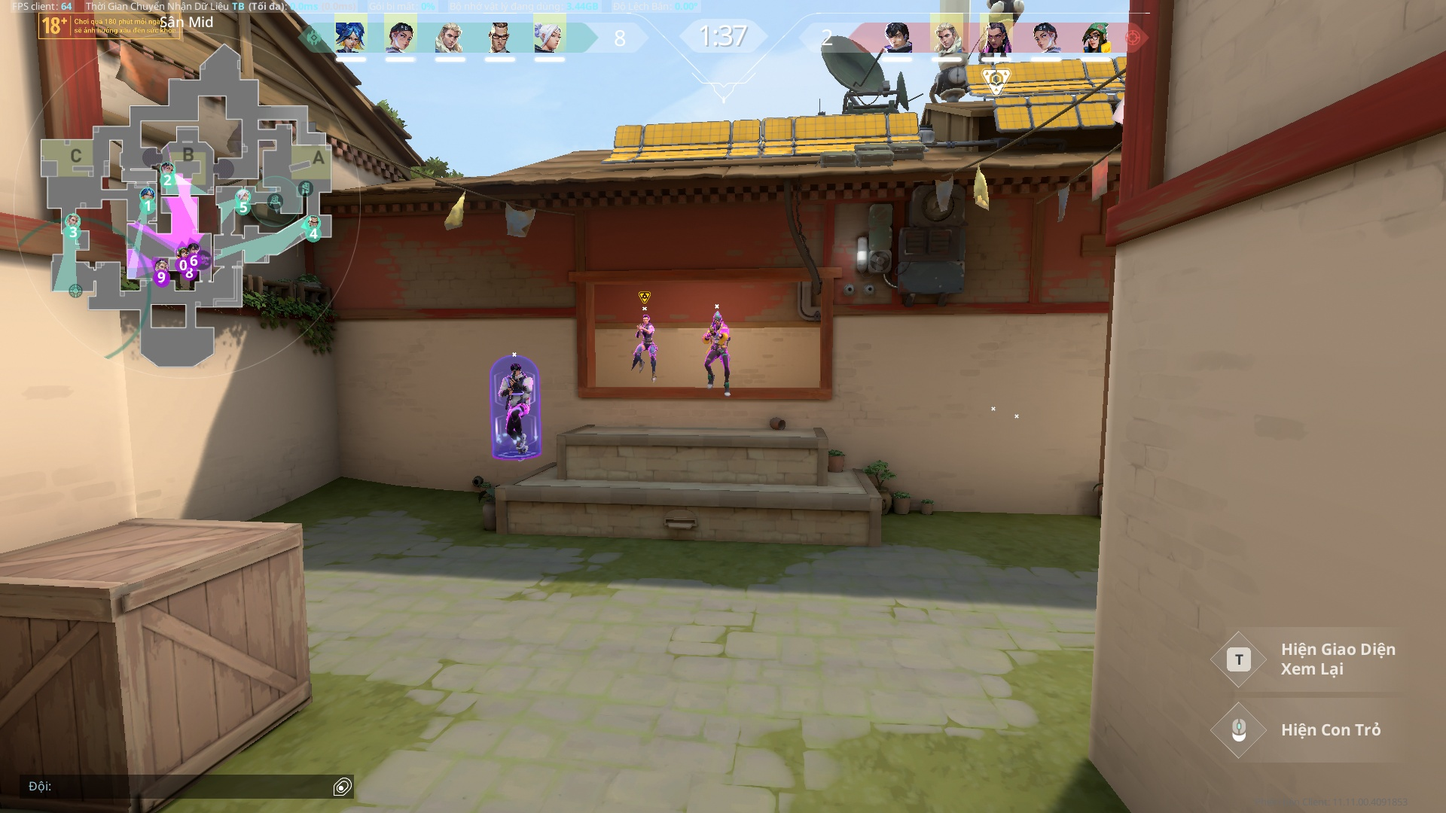body: (500, 373, 536, 403), (708, 323, 728, 344), (636, 323, 655, 341)
head: (510, 362, 523, 376), (712, 313, 724, 326), (642, 315, 651, 325)
